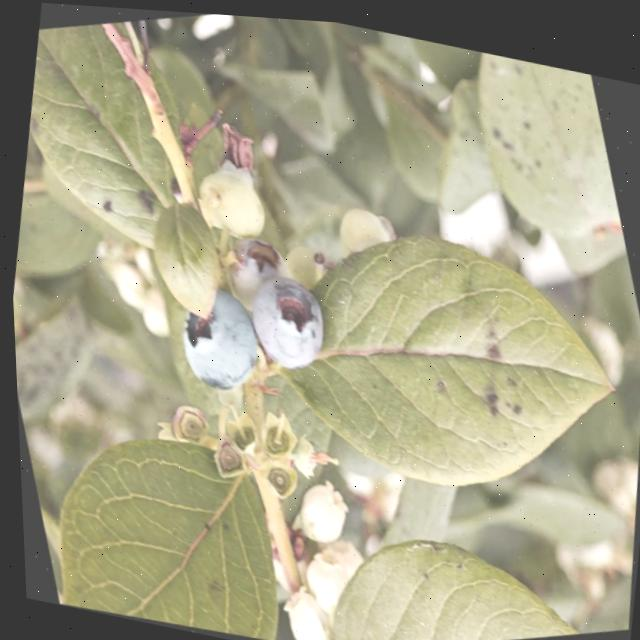RipeBlueBerry: (154, 271, 281, 411), (231, 257, 347, 386)
UnripeBlueBerry: (178, 145, 286, 259)
